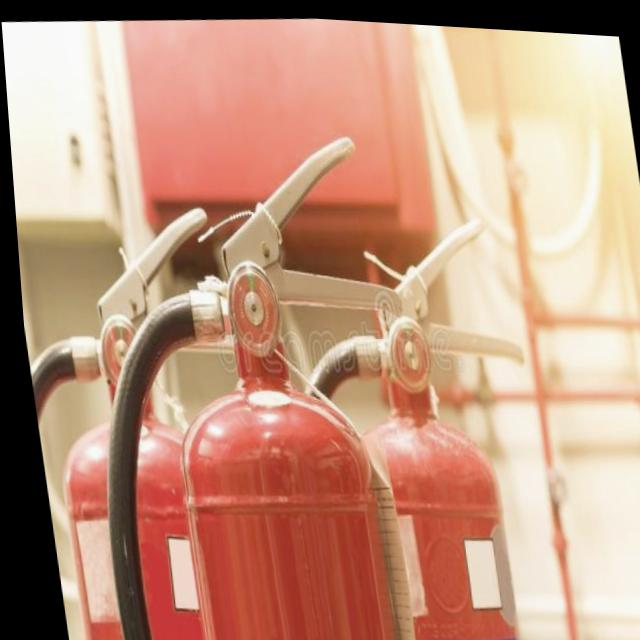FireExtinguisher: (37, 107, 445, 640), (238, 193, 560, 640), (11, 186, 272, 640)
